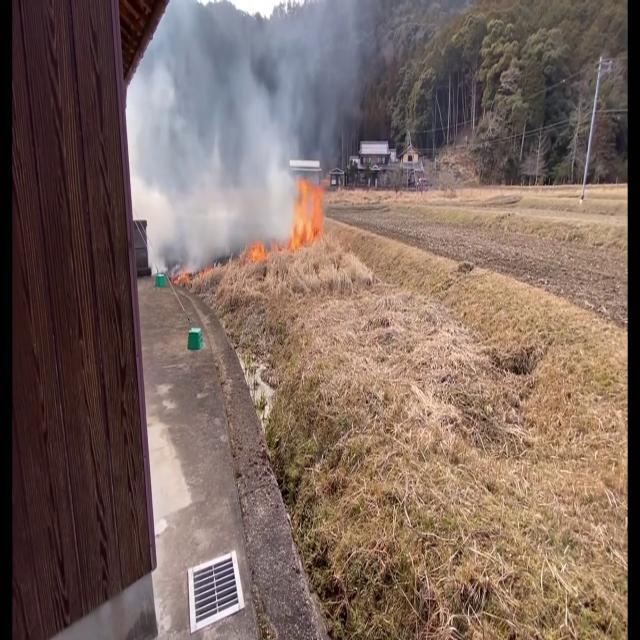Fire: (288, 165, 328, 251)
Smoke: (127, 0, 376, 253)
